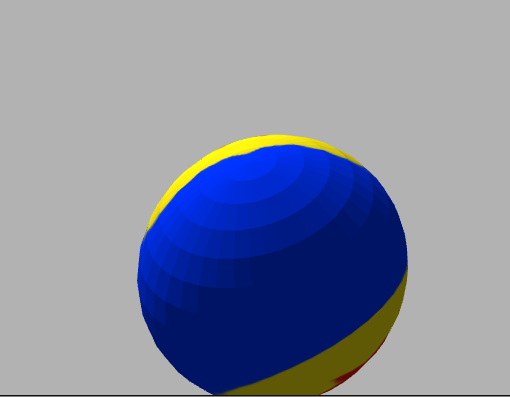toy story ball: (137, 135, 410, 396)
